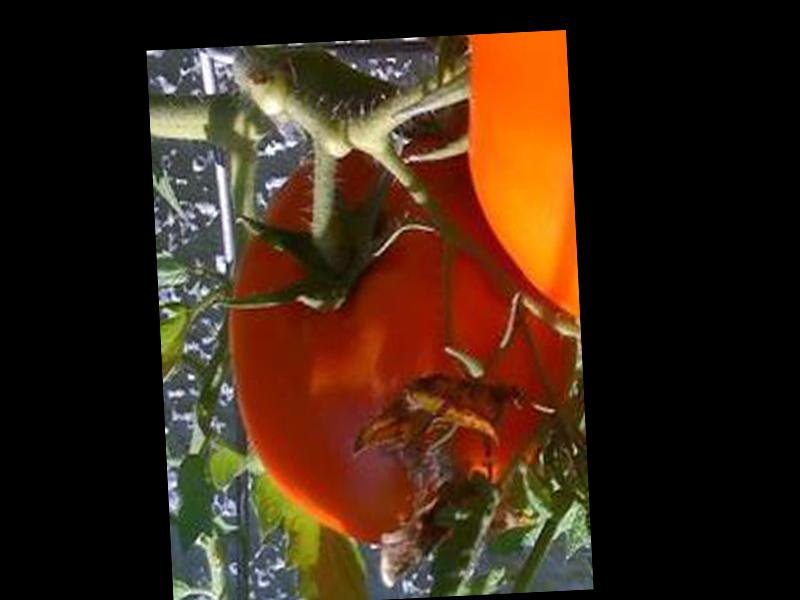Tomato: (218, 136, 579, 555)
